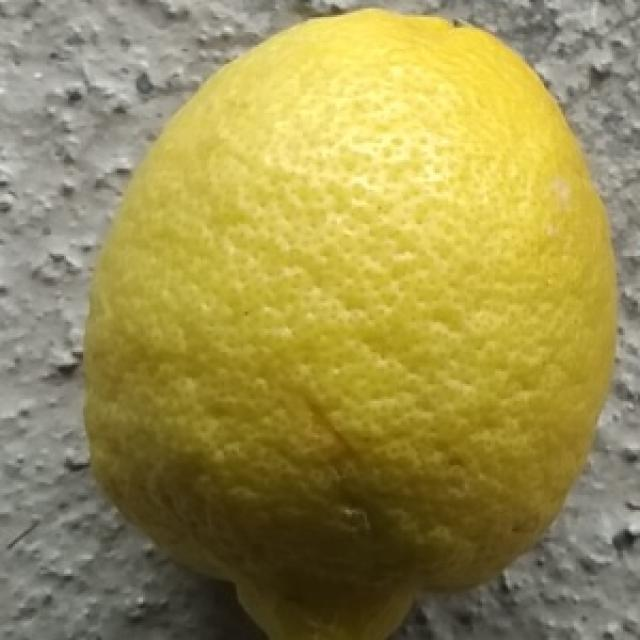Ripe: (74, 9, 626, 640)
